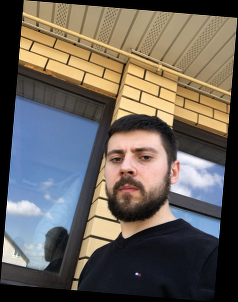without_mask: (104, 141, 168, 221)
